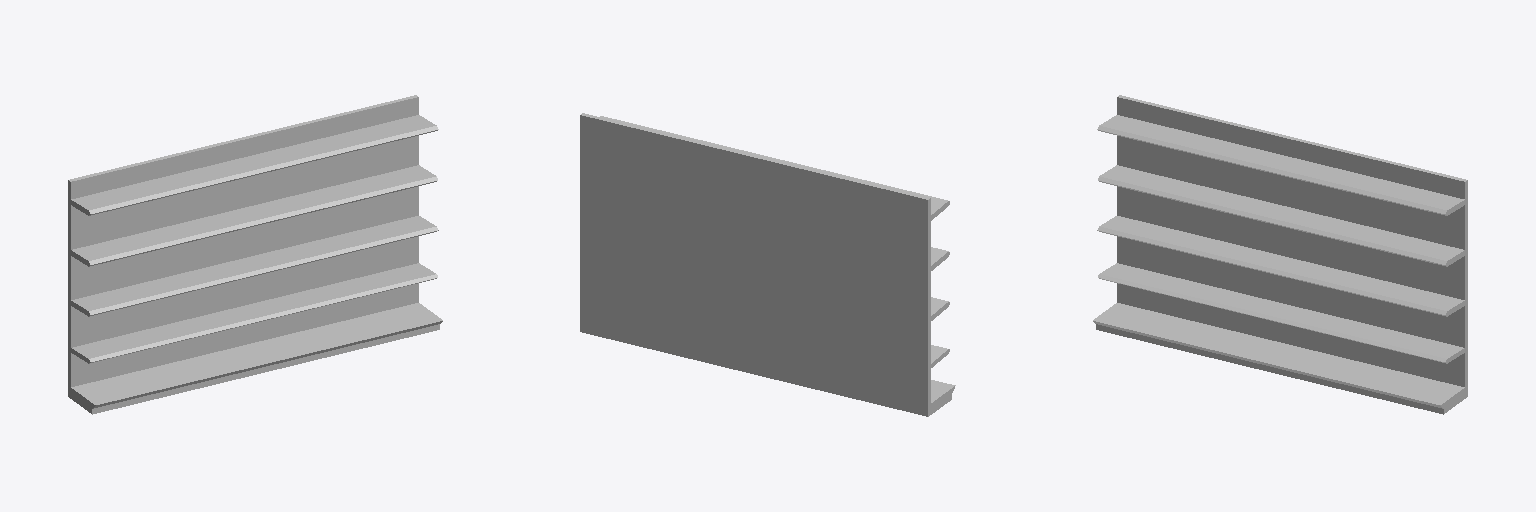
Rendered from GeneralShelvesSingle.obj.
The picture shows the model from 3 angles: view 1: azimuth 30°, elevation 25°; view 2: azimuth 150°, elevation 25°; view 3: azimuth 330°, elevation 25°; orthographic projection.
Visible parts, largest first — view 1: ShelfSingle; view 2: ShelfSingle; view 3: ShelfSingle.
Part boxes in pixels (left/top/right/bottom): ShelfSingle: left=68, top=95, right=442, bottom=414; ShelfSingle: left=580, top=113, right=955, bottom=416; ShelfSingle: left=1093, top=95, right=1467, bottom=414.
Bounding box in the file's own units: 15.59 × 9.3 × 2.13.